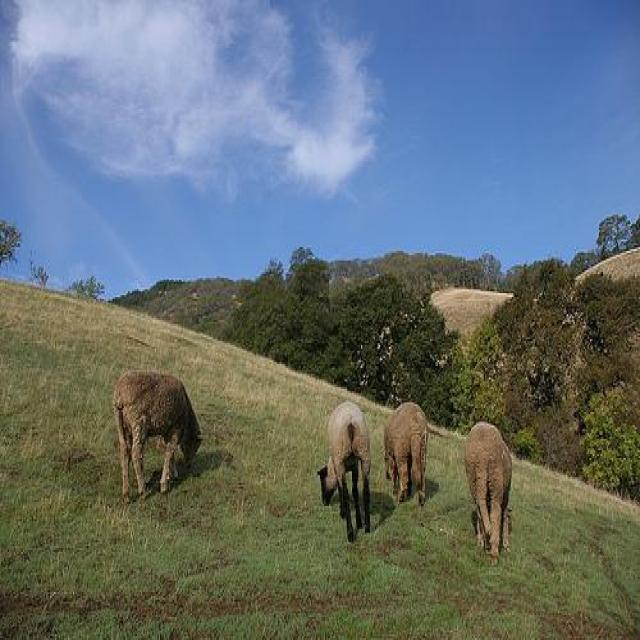Sheep: (112, 370, 204, 508), (316, 401, 371, 544), (464, 424, 514, 569), (386, 402, 428, 508)
